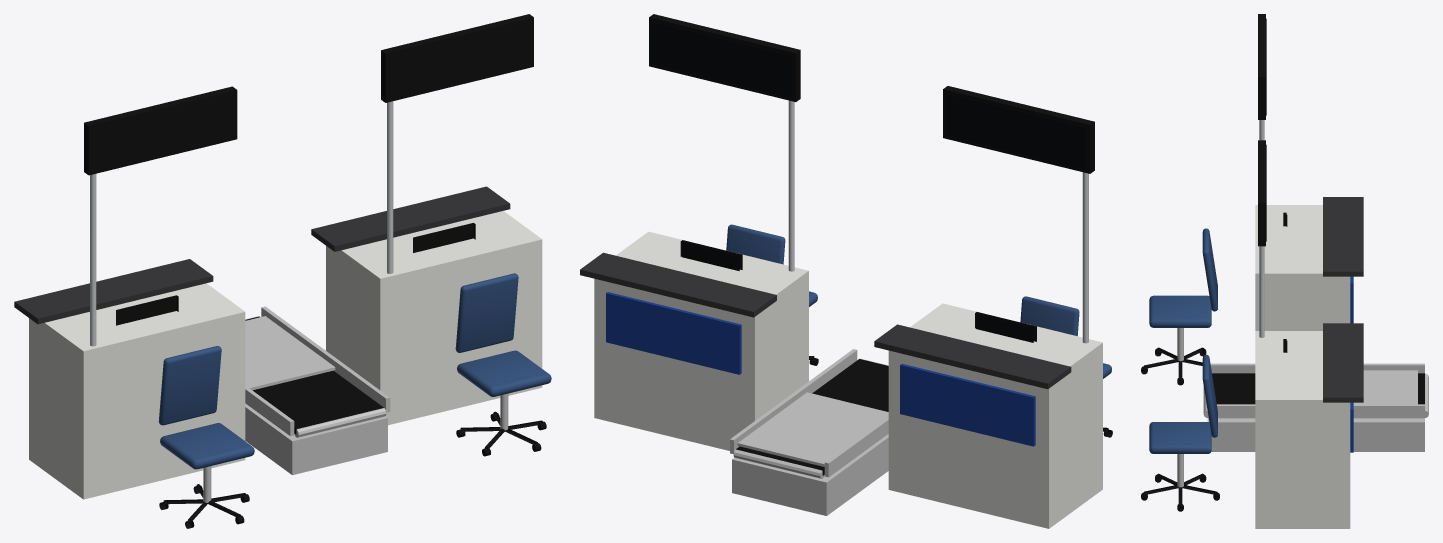
Rendered from airport.landside.checkin_pair.glb.
3 renders of one model, left to right at view 1: azimuth 30°, elevation 25°; view 2: azimuth 150°, elevation 25°; view 3: azimuth 270°, elevation 25°, orthographic. The views are drawn at different scales.
Visible parts, largest first — view 1: desks__laminate_white, signage__plastic_black, desks__fabric_blue, belts__steel_stainless, desks__worktop, belts__rubber, desks__plastic_black, signage__aluminium, desks__steel_stainless; view 2: desks__laminate_white, belts__steel_stainless, desks__plastic_blue, signage__screen, desks__worktop, signage__plastic_black, desks__fabric_blue, belts__rubber, signage__aluminium, desks__screen, desks__plastic_black; view 3: desks__laminate_white, belts__steel_stainless, desks__worktop, desks__fabric_blue, signage__plastic_black, belts__rubber, desks__plastic_black, signage__aluminium, desks__steel_stainless, desks__plastic_blue.
Part boxes in pixels (box(x1,y1,x2,y2)): desks__laminate_white: box(29, 211, 542, 499); signage__plastic_black: box(84, 14, 533, 175); desks__fabric_blue: box(158, 273, 551, 469); belts__steel_stainless: box(245, 306, 390, 475); desks__worktop: box(14, 186, 510, 324); belts__rubber: box(245, 316, 383, 434); desks__plastic_black: box(116, 223, 546, 528); signage__aluminium: box(90, 101, 393, 346); desks__steel_stainless: box(203, 393, 508, 502); desks__laminate_white: box(594, 231, 1102, 528); belts__steel_stainless: box(730, 349, 888, 515); desks__plastic_blue: box(606, 292, 1035, 446); signage__screen: box(652, 21, 1086, 169); desks__worktop: box(580, 252, 1071, 389); signage__plastic_black: box(649, 14, 1094, 173); desks__fabric_blue: box(726, 224, 1111, 378); belts__rubber: box(736, 359, 888, 475); signage__aluminium: box(788, 100, 1088, 343); desks__screen: box(681, 243, 1033, 342); desks__plastic_black: box(680, 240, 1112, 437); desks__laminate_white: box(1255, 205, 1350, 528); belts__steel_stainless: box(1203, 363, 1428, 451); desks__worktop: box(1323, 197, 1363, 402); desks__fabric_blue: box(1149, 228, 1217, 453); signage__plastic_black: box(1258, 14, 1265, 246); belts__rubber: box(1212, 373, 1424, 404); desks__plastic_black: box(1141, 212, 1286, 511); signage__aluminium: box(1259, 120, 1264, 337); desks__steel_stainless: box(1177, 328, 1183, 487); desks__plastic_blue: box(1350, 276, 1353, 452).
Bounding box in the file's own units: 3.5 × 2.62 × 2.12.
